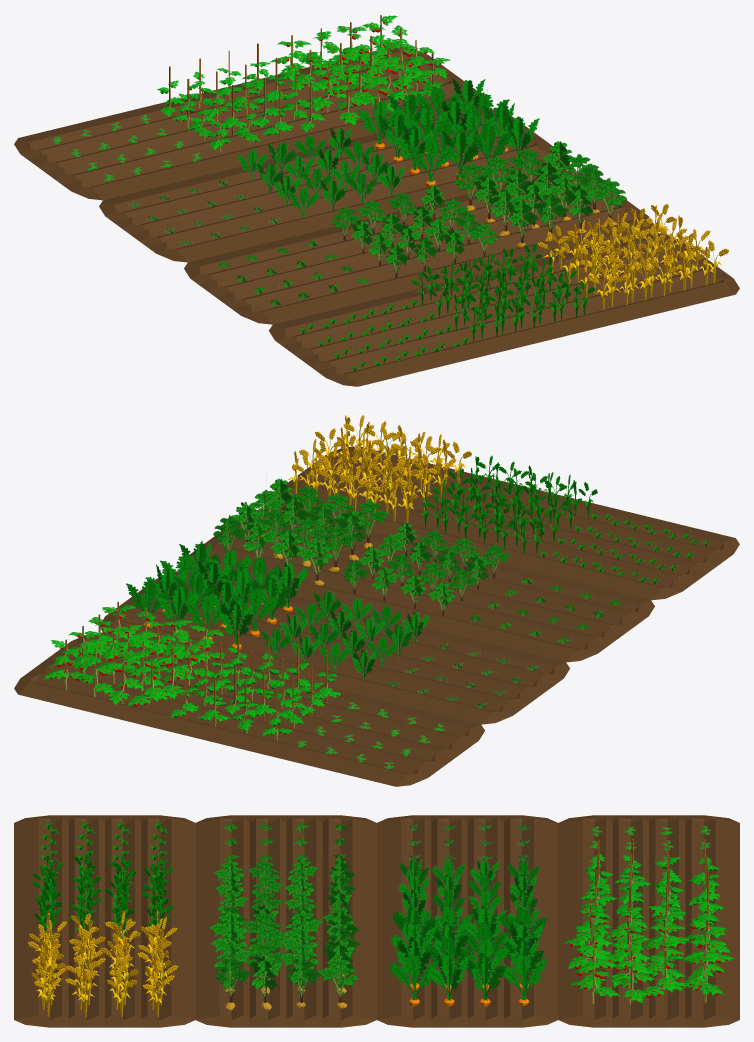
The model's file is crops_low_poly.glb.
3 views of the same model, one above another, from view 1: azimuth 30°, elevation 25°; view 2: azimuth 150°, elevation 25°; view 3: azimuth 270°, elevation 25° (orthographic). The views are drawn at different scales.
Parts seen in each view (by area): view 1: Soil.002, Soil, Soil.003, Soil.001, Carrot_F3, Potatoe_F3, Tomatoe_F3, Wheat_F3, Potatoe_F2, Carrot_F2, Wheat_F2, Tomatoe_F2 (+4 smaller); view 2: Soil.003, Soil.002, Soil.001, Soil, Carrot_F3, Potatoe_F3, Tomatoe_F3, Wheat_F3, Potatoe_F2, Carrot_F2, Wheat_F2, Tomatoe_F2 (+4 smaller); view 3: Soil.002, Soil.003, Soil, Soil.001, Carrot_F3, Tomatoe_F3, Potatoe_F3, Wheat_F3, Carrot_F2, Potatoe_F2, Tomatoe_F2, Wheat_F2 (+4 smaller).
Boxes of the visible parts, <box> form: Soil.002: <box>268,233,739,386</box>; Soil: <box>184,170,653,324</box>; Soil.003: <box>14,46,479,200</box>; Soil.001: <box>99,108,569,262</box>; Carrot_F3: <box>357,78,539,187</box>; Potatoe_F3: <box>454,141,626,248</box>; Tomatoe_F3: <box>269,15,450,125</box>; Wheat_F3: <box>537,204,728,310</box>; Potatoe_F2: <box>331,185,497,277</box>; Carrot_F2: <box>236,127,405,216</box>; Wheat_F2: <box>411,243,595,342</box>; Tomatoe_F2: <box>157,43,325,152</box>; Soil.003: <box>14,632,484,786</box>; Soil.002: <box>278,446,739,600</box>; Soil.001: <box>100,570,569,724</box>; Soil: <box>190,509,654,662</box>; Carrot_F3: <box>126,540,308,649</box>; Potatoe_F3: <box>213,478,389,586</box>; Tomatoe_F3: <box>43,601,225,711</box>; Wheat_F3: <box>288,415,471,522</box>; Potatoe_F2: <box>342,523,510,615</box>; Carrot_F2: <box>260,590,429,679</box>; Wheat_F2: <box>420,455,597,554</box>; Tomatoe_F2: <box>170,631,341,741</box>; Soil.002: <box>14,815,195,1027</box>; Soil.003: <box>558,815,739,1027</box>; Soil: <box>195,815,376,1027</box>; Soil.001: <box>377,815,558,1027</box>; Carrot_F3: <box>388,905,548,1006</box>; Tomatoe_F3: <box>562,901,734,1004</box>; Potatoe_F3: <box>209,909,359,1010</box>; Wheat_F3: <box>27,910,178,1016</box>; Carrot_F2: <box>398,858,540,930</box>; Potatoe_F2: <box>214,859,355,940</box>; Tomatoe_F2: <box>580,839,726,936</box>; Wheat_F2: <box>32,852,173,940</box>.
Size of the model in its own units: 7.52 by 0.8909 by 10.86.
5 materials, 4 textured.
